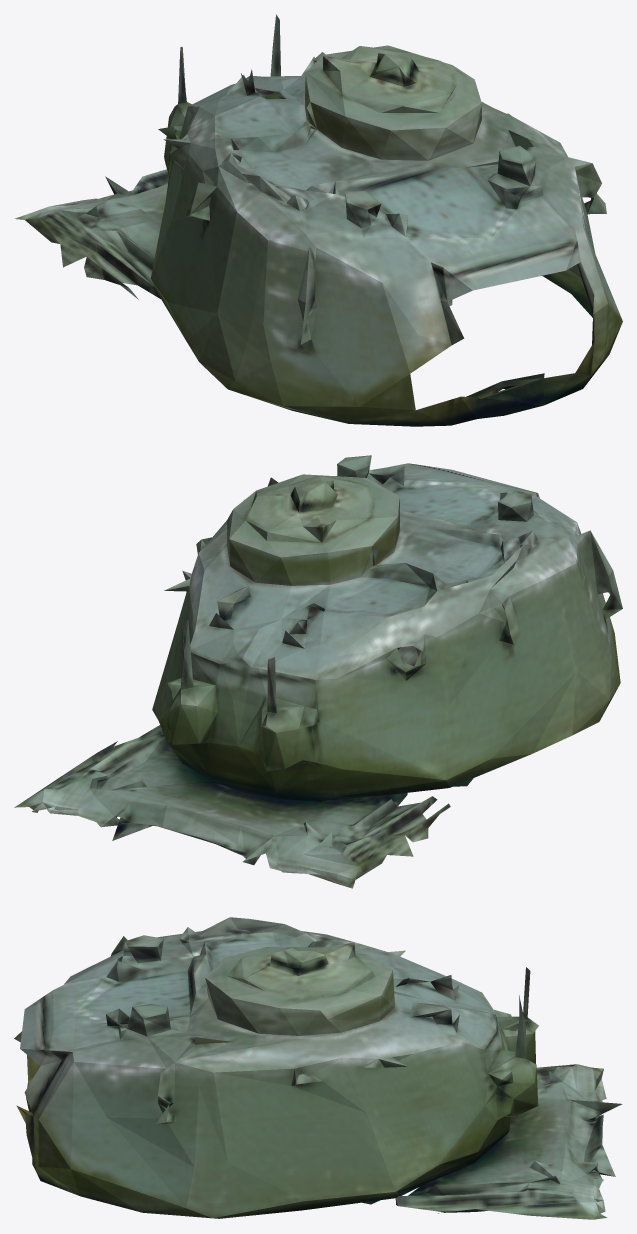
The model's file is kv85_turret.obj.
3 views of the same model, one above another, from view 1: azimuth 30°, elevation 25°; view 2: azimuth 150°, elevation 25°; view 3: azimuth 270°, elevation 25° (orthographic). The views are drawn at different scales.
Visible parts, largest first — view 1: kv85_turret; view 2: kv85_turret; view 3: kv85_turret.
Boxes of the visible parts, left/top/right/bottom form: kv85_turret: left=14, top=14, right=622, bottom=426; kv85_turret: left=14, top=455, right=622, bottom=888; kv85_turret: left=14, top=917, right=622, bottom=1219.
Bounding box in the file's own units: 2.3 × 1.4 × 3.59.
Materials: 1 (1 with a texture image).
